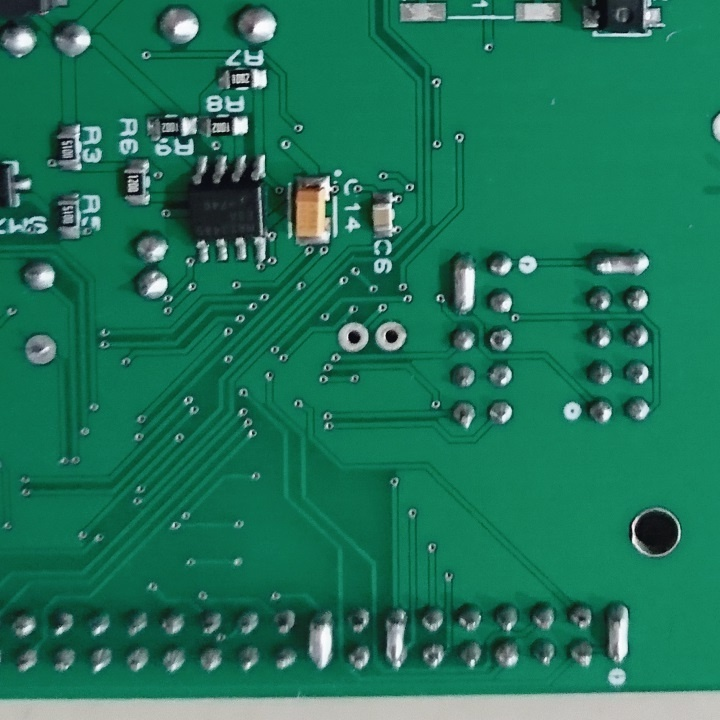F: (22, 330, 62, 368), (335, 318, 370, 355), (374, 318, 408, 355)
P: (582, 244, 652, 281), (302, 605, 336, 675), (601, 598, 633, 668), (380, 604, 410, 673), (447, 246, 475, 318)
